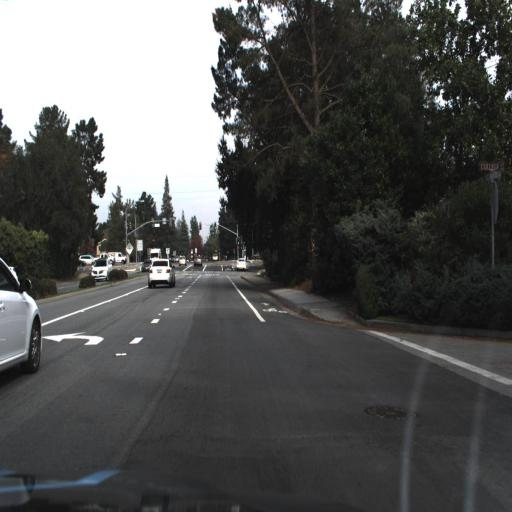car: (0, 266, 43, 405), (147, 258, 176, 287), (90, 256, 113, 284), (231, 251, 250, 276), (233, 254, 247, 273), (174, 253, 187, 268), (193, 253, 203, 269)
trafficLight-Green: (235, 233, 241, 251)
